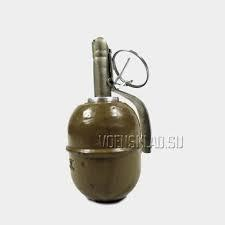RGD 5: (67, 36, 153, 203)
